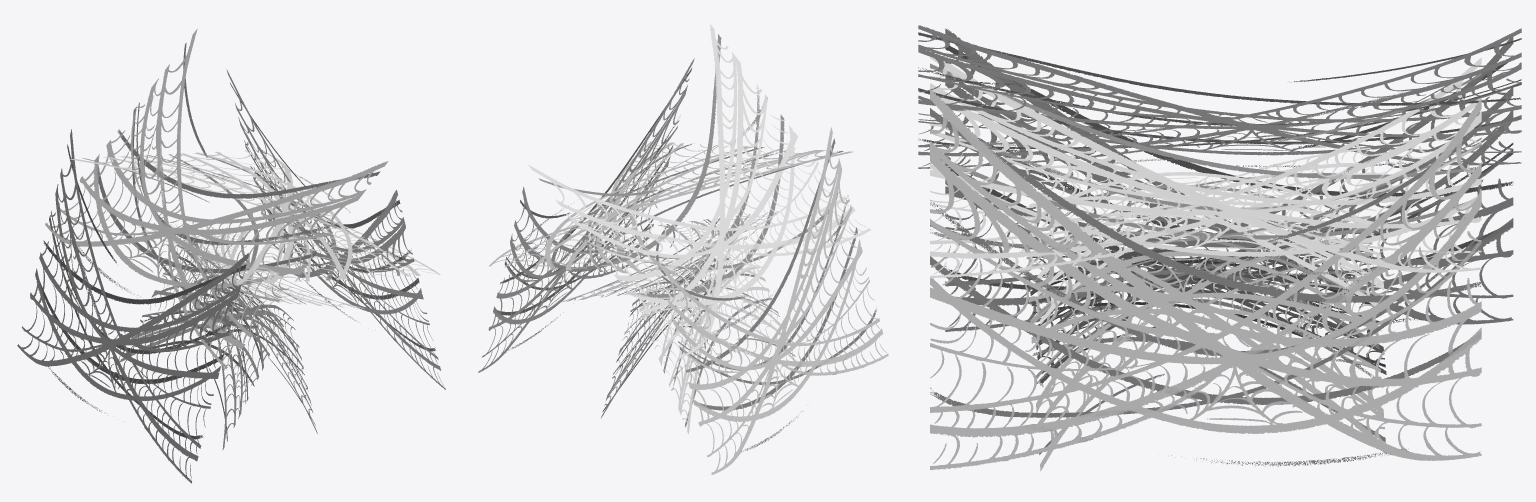
Rendered from cobweb_fbx.fbx.
The picture shows the model from 3 angles, left to right: view 1: azimuth 30°, elevation 25°; view 2: azimuth 150°, elevation 25°; view 3: azimuth 270°, elevation 25°; orthographic projection. The views are drawn at different scales.
Parts seen in each view (by area): view 1: cobweb white.003, cobweb white, cobweb white.001, cobweb white.002, cobweb white.005, cobweb white.004, cobweb white.006; view 2: cobweb white.003, cobweb white, cobweb white.001, cobweb white.002, cobweb white.005, cobweb white.004, cobweb white.006; view 3: cobweb white.002, cobweb white.001, cobweb white.003, cobweb white, cobweb white.004, cobweb white.006, cobweb white.005.
Part boxes in pixels (left/top/right/bottom): cobweb white.003: left=45, top=28, right=388, bottom=369; cobweb white: left=17, top=129, right=249, bottom=483; cobweb white.001: left=69, top=150, right=440, bottom=284; cobweb white.002: left=226, top=69, right=445, bottom=389; cobweb white.005: left=120, top=235, right=283, bottom=450; cobweb white.004: left=182, top=225, right=317, bottom=433; cobweb white.006: left=136, top=222, right=364, bottom=308; cobweb white.003: left=528, top=24, right=870, bottom=358; cobweb white: left=658, top=127, right=888, bottom=474; cobweb white.001: left=489, top=141, right=853, bottom=275; cobweb white.002: left=478, top=58, right=694, bottom=372; cobweb white.005: left=634, top=236, right=796, bottom=433; cobweb white.004: left=601, top=231, right=735, bottom=418; cobweb white.006: left=560, top=211, right=777, bottom=302; cobweb white.002: left=930, top=90, right=1481, bottom=469; cobweb white.001: left=930, top=56, right=1481, bottom=278; cobweb white.003: left=918, top=25, right=1521, bottom=168; cobweb white: left=945, top=28, right=1513, bottom=331; cobweb white.004: left=1026, top=215, right=1385, bottom=471; cobweb white.006: left=1027, top=147, right=1386, bottom=324; cobweb white.005: left=1026, top=228, right=1386, bottom=385.
Size of the model in its own units: 184 by 217 by 237.
